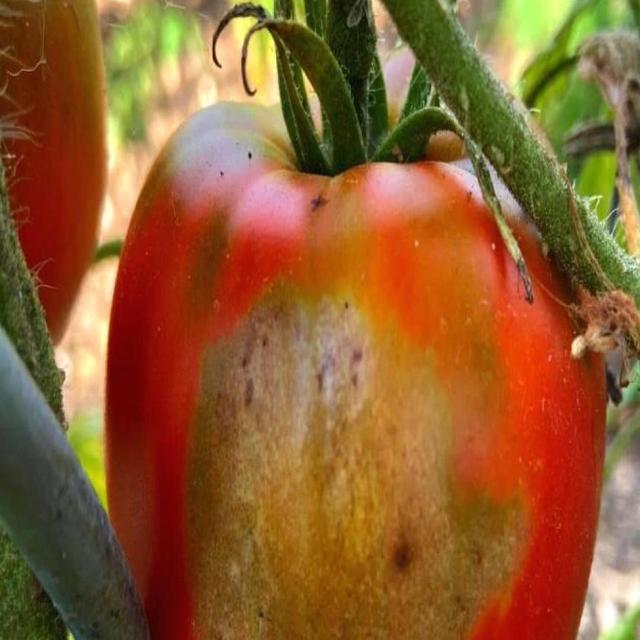Sunscald Fruit: (156, 106, 251, 277)
